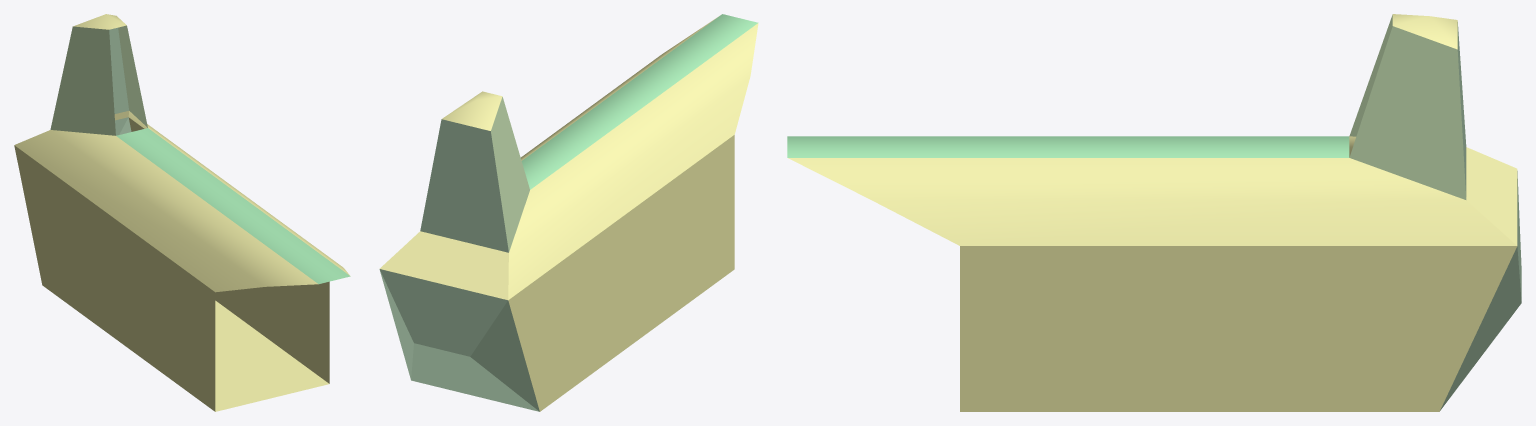
3 views of the same model, side by side, from view 1: azimuth 30°, elevation 25°; view 2: azimuth 150°, elevation 25°; view 3: azimuth 270°, elevation 25° (orthographic). The views are drawn at different scales.
Visible parts, largest first — view 1: Object16; view 2: Object16; view 3: Object16.
Part boxes in pixels (<box>): Object16: <box>14,14,350,411</box>; Object16: <box>379,14,758,411</box>; Object16: <box>787,14,1521,411</box>.
Size of the model in its own units: 10000 by 21654 by 40110.
